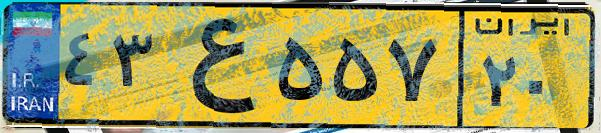0: (525, 38, 570, 115)
2: (475, 38, 525, 113)
3: (110, 28, 158, 98)
4: (57, 26, 110, 100)
5: (270, 28, 330, 110), (330, 28, 385, 110)
7: (385, 28, 445, 110)
ع: (158, 12, 270, 120)
